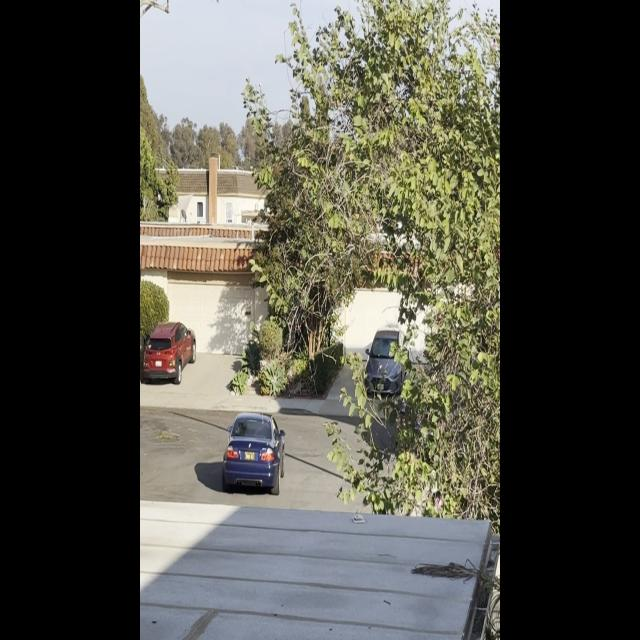Carbeetle: (216, 407, 288, 497)
Civilian: (140, 318, 199, 383), (363, 320, 409, 403)
